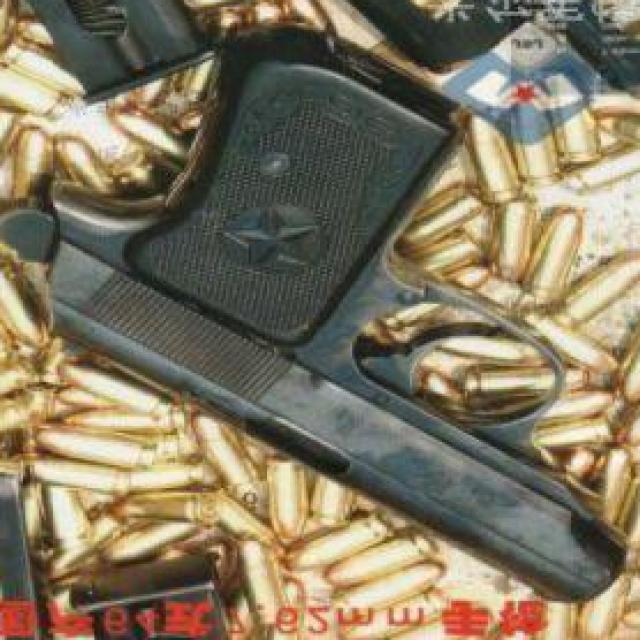pistol: (0, 32, 626, 608)
